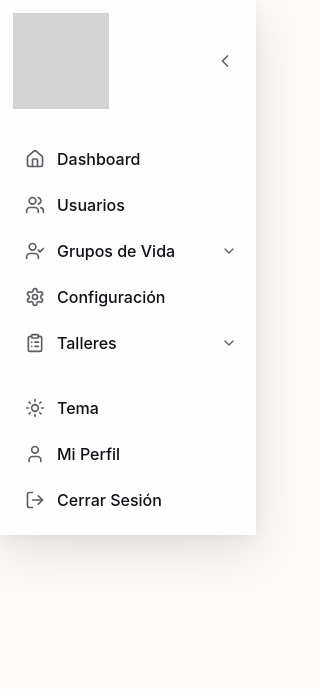
SidebarModerna platform navigation › PR27: chevron click toggles the talleres submenu open/closed
// Click chevron → submenu opens.
Click the button named "Abrir submenú de Talleres": (229, 343) [215,329,243,357]
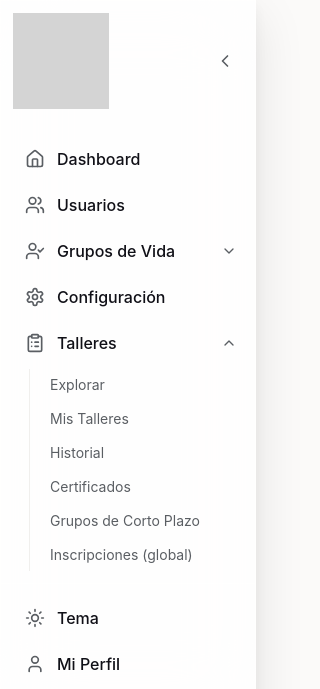
Check: the button named "Cerrar submenú de Talleres" is expanded
// Click chevron again → submenu closes.
Click the button named "Cerrar submenú de Talleres": (229, 343) [215,329,243,357]
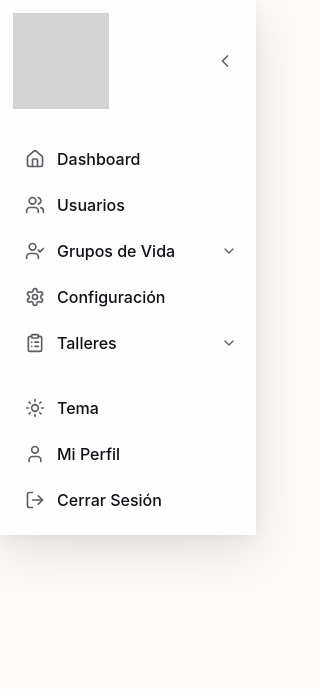
Check: the button named "Abrir submenú de Talleres" is collapsed, box [215,329,243,357]
